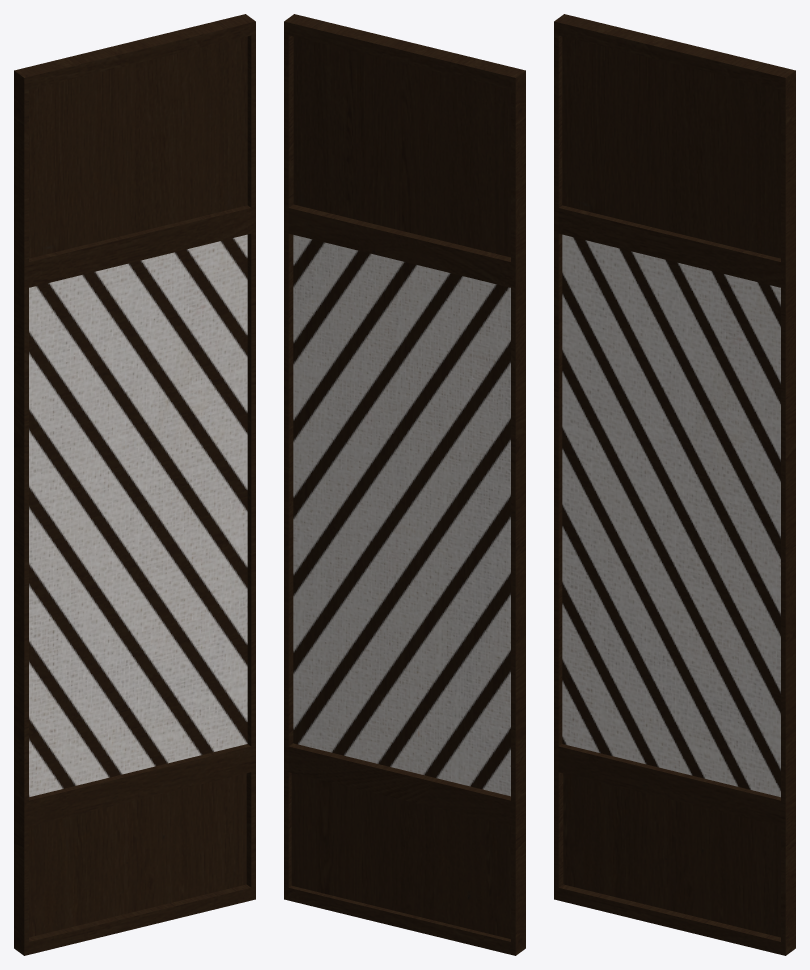
Rendered from palace-door2.fbx.
3 renders of one model, left to right at view 1: azimuth 30°, elevation 25°; view 2: azimuth 150°, elevation 25°; view 3: azimuth 330°, elevation 25°, orthographic.
Visible parts, largest first — view 1: 立方体.019_Baked; view 2: 立方体.019_Baked; view 3: 立方体.019_Baked.
Part boxes in pixels (x1,y1,x2,y2): 立方体.019_Baked: (14, 14, 255, 955); 立方体.019_Baked: (284, 14, 525, 955); 立方体.019_Baked: (554, 14, 795, 955).
Bounding box in the file's own units: 100 × 362 × 7.63.
Materials: 1 (1 with a texture image).
